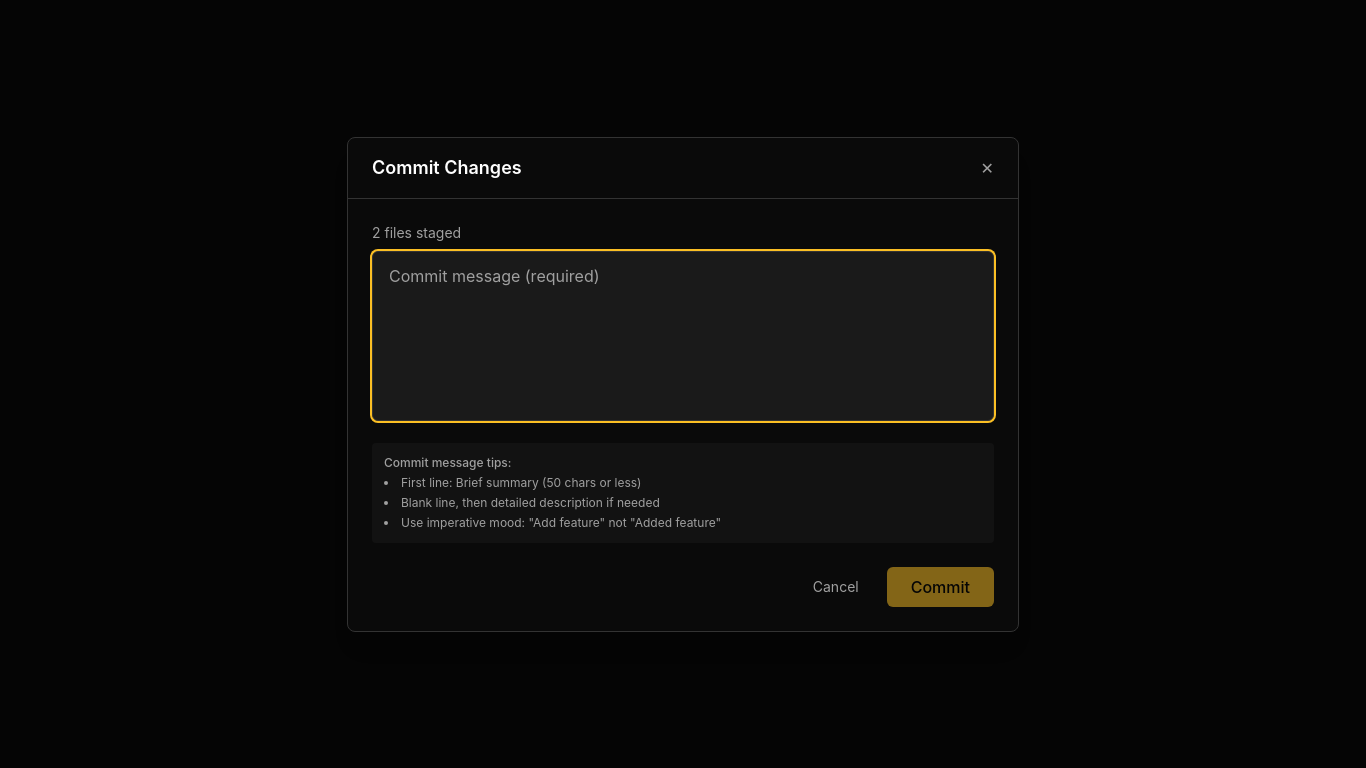
Test case: CommitDialog › commit button is enabled when message is provided
This screenshot has width=1366, height=768.
Type "feat: add feature" into the text box with placeholder "Commit message (required)".
click(683, 336); type("feat: add feature")  # box [372,250,994,420]
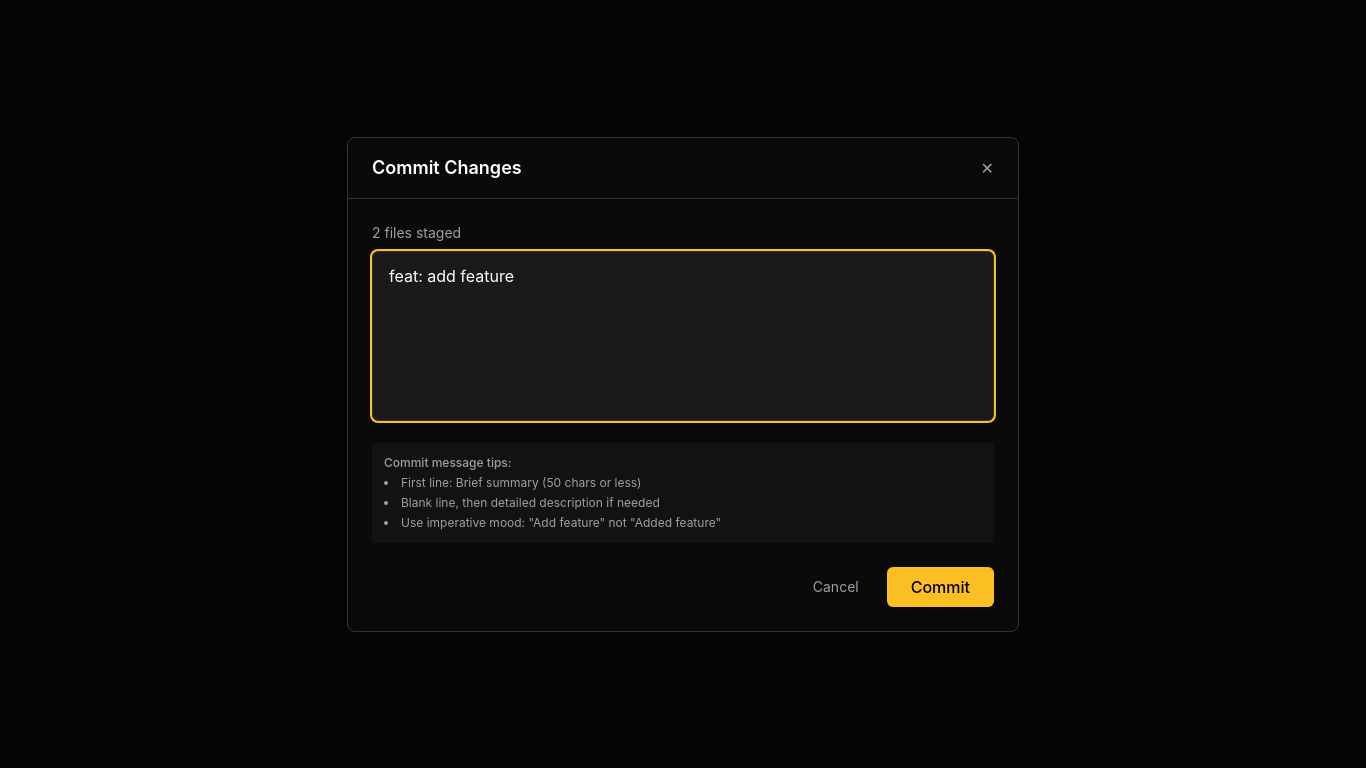
Now the button "Commit" is enabled, box [887,566,994,606]
